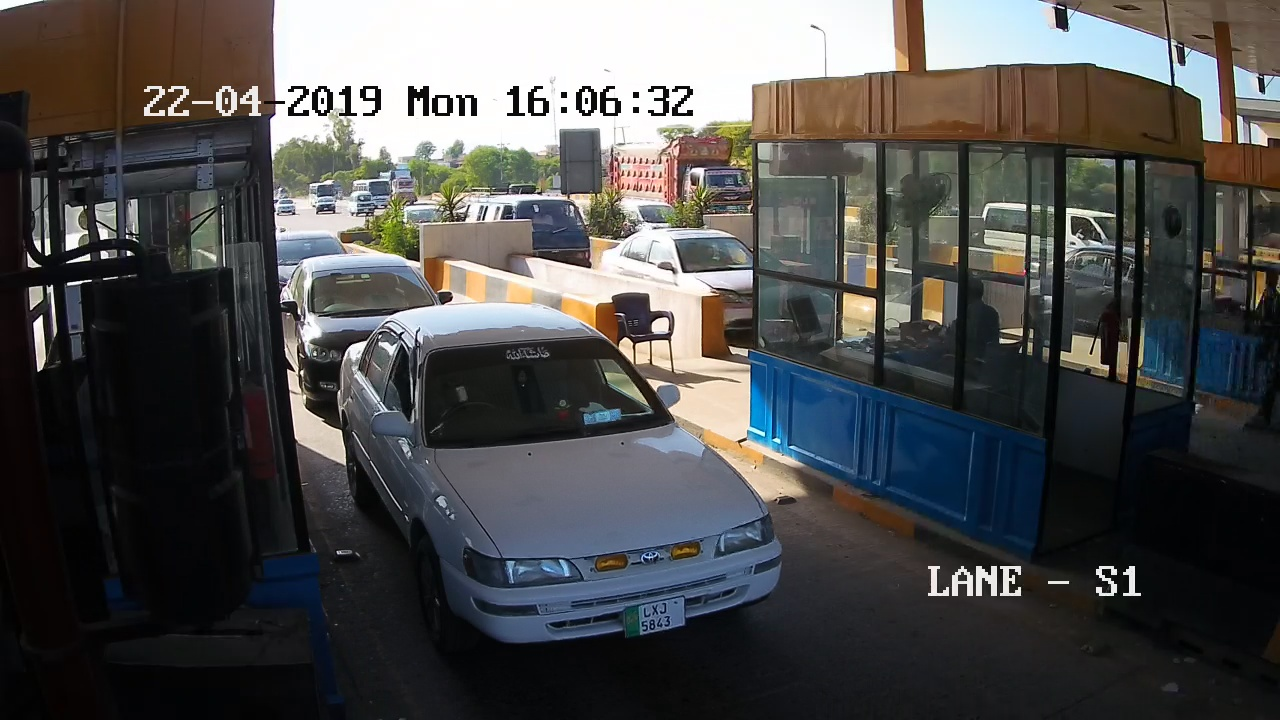Number Plate (Car): (621, 599, 687, 635)
